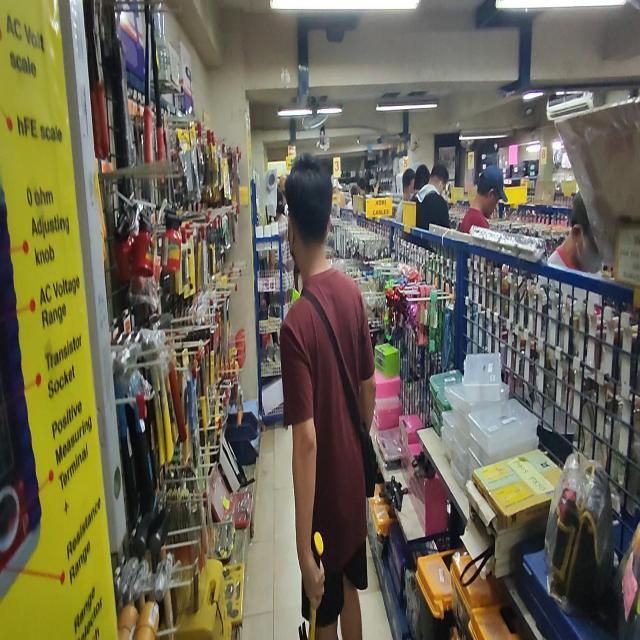hammer: (298, 530, 324, 640)
